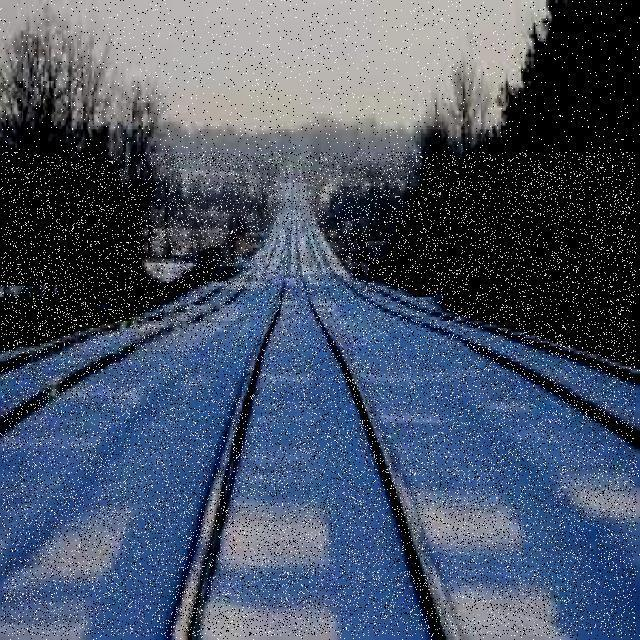rail: (2, 153, 636, 636)
